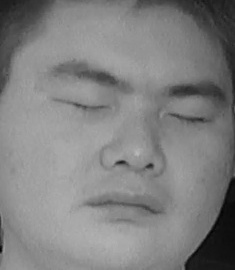blink: (59, 88, 112, 118), (166, 101, 210, 131)
mouth: (86, 184, 165, 229)
